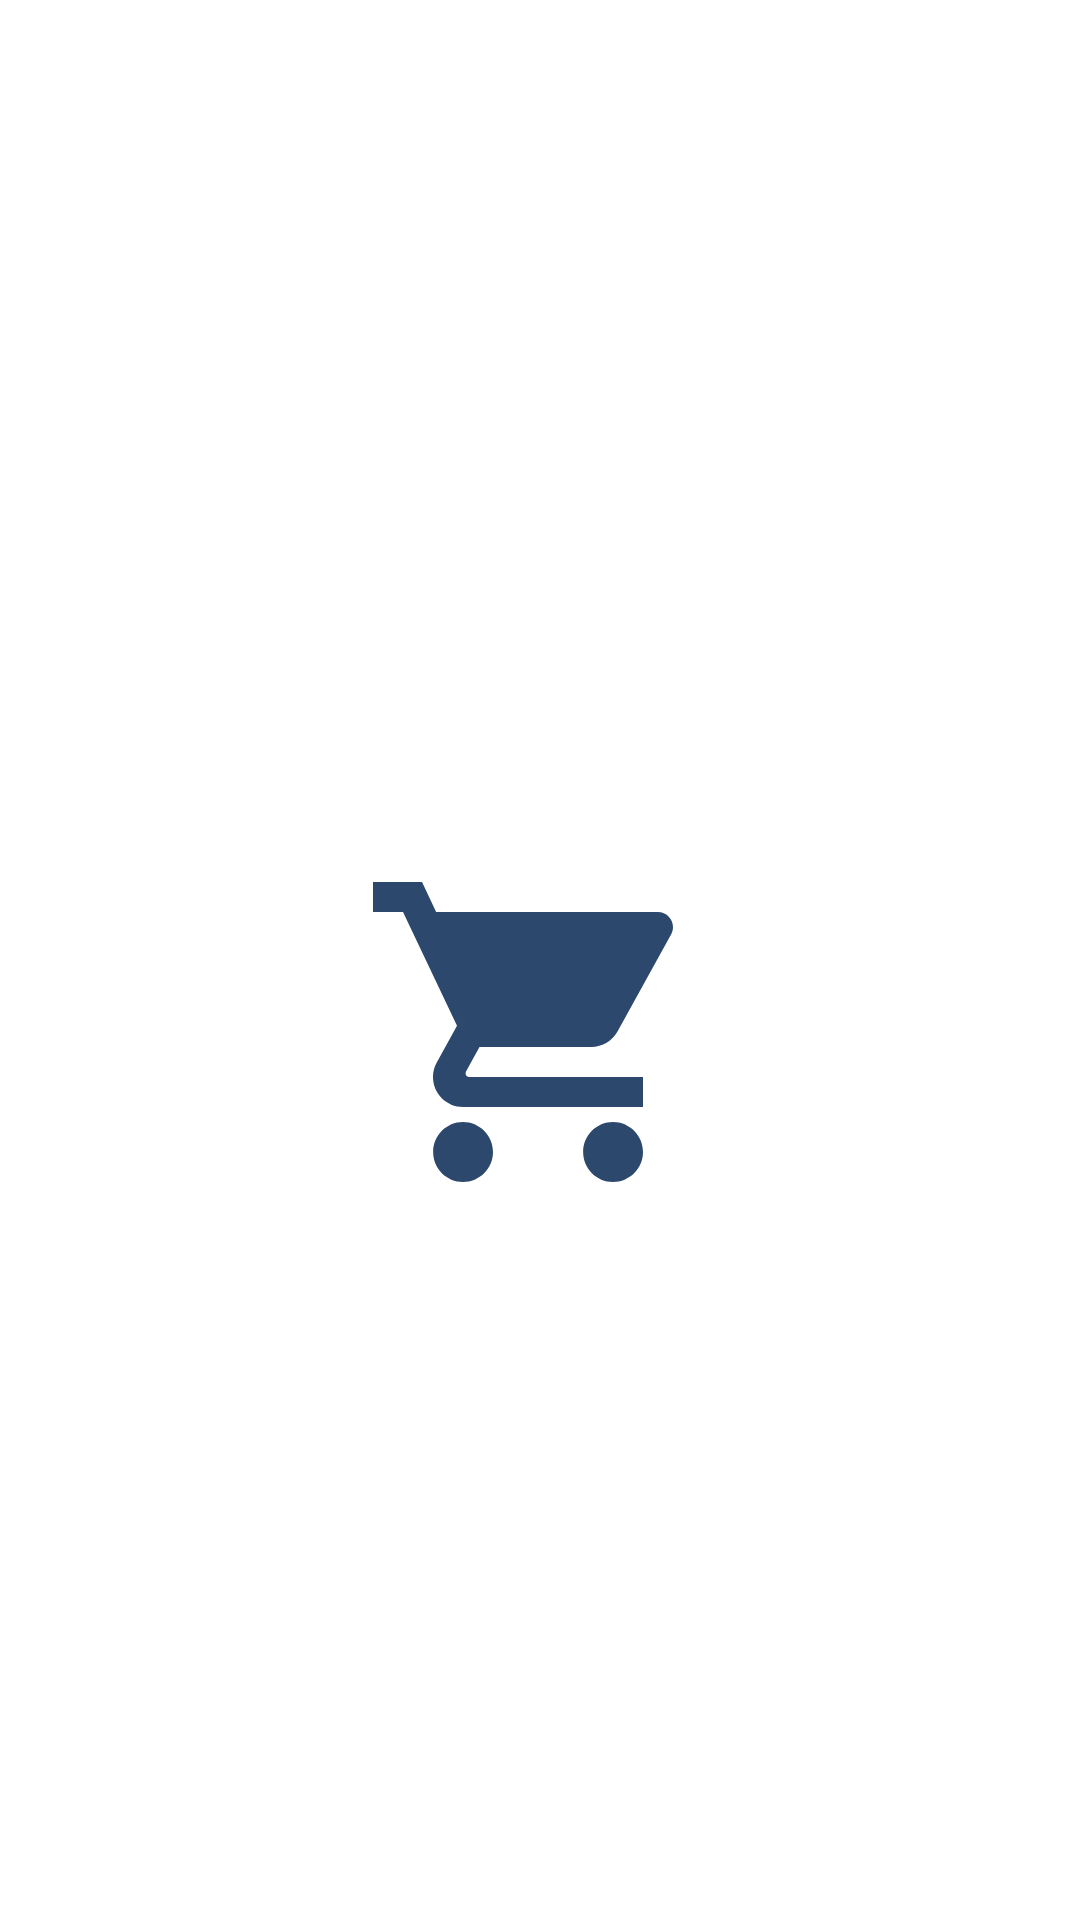

Named icons in this screenshot (1080×1920) and their centers, (x,y):
cart: (523,1032)
